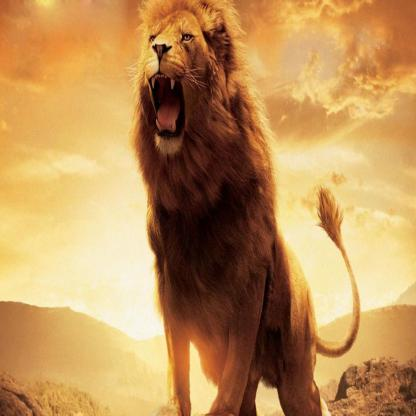lion: (131, 0, 237, 195)
